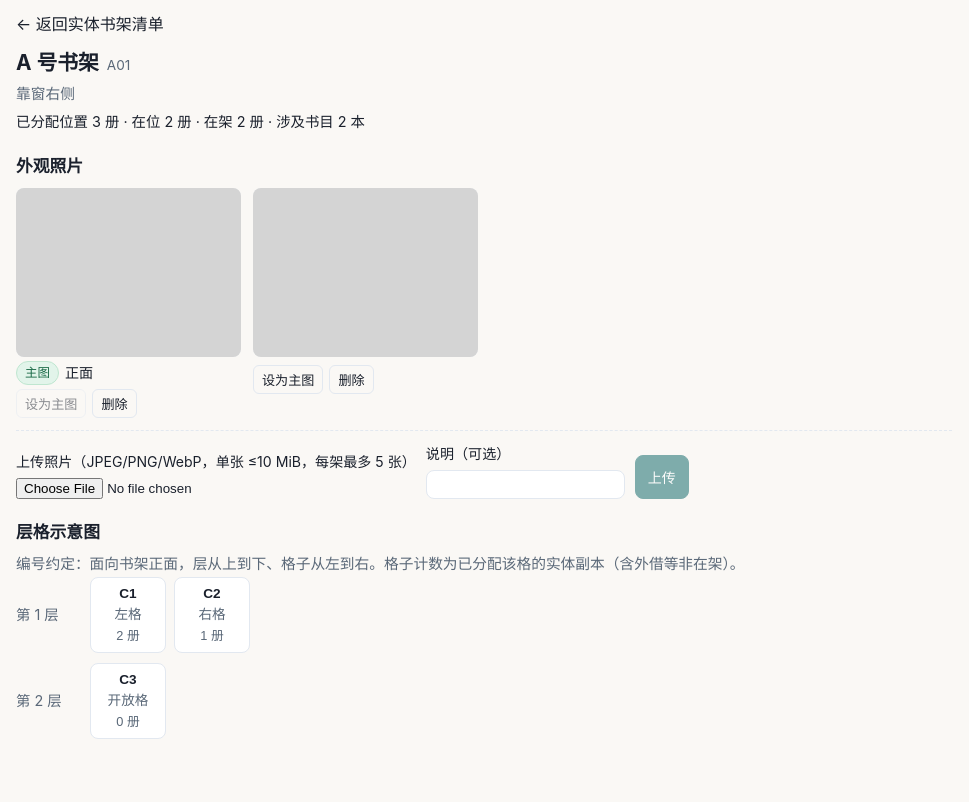
Test: StorageShelfView › 照片版本冲突 PLACEMENT_CHANGED：提示并自动刷新
The image size is (969, 802).
Click the 1st button "设为主图" at (288, 380), box top-left (253, 365), bottom-right (324, 394)
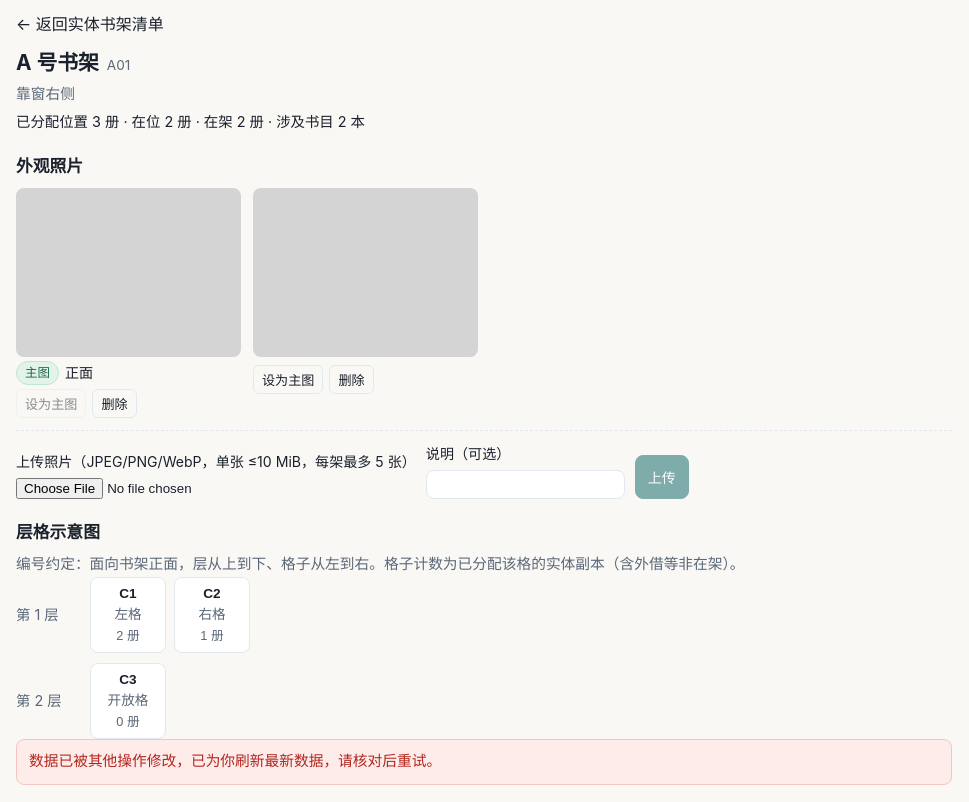
Expected: the message with class "error-box" shows "已为你刷新最新数据", top-left (29, 752), bottom-right (441, 770)
